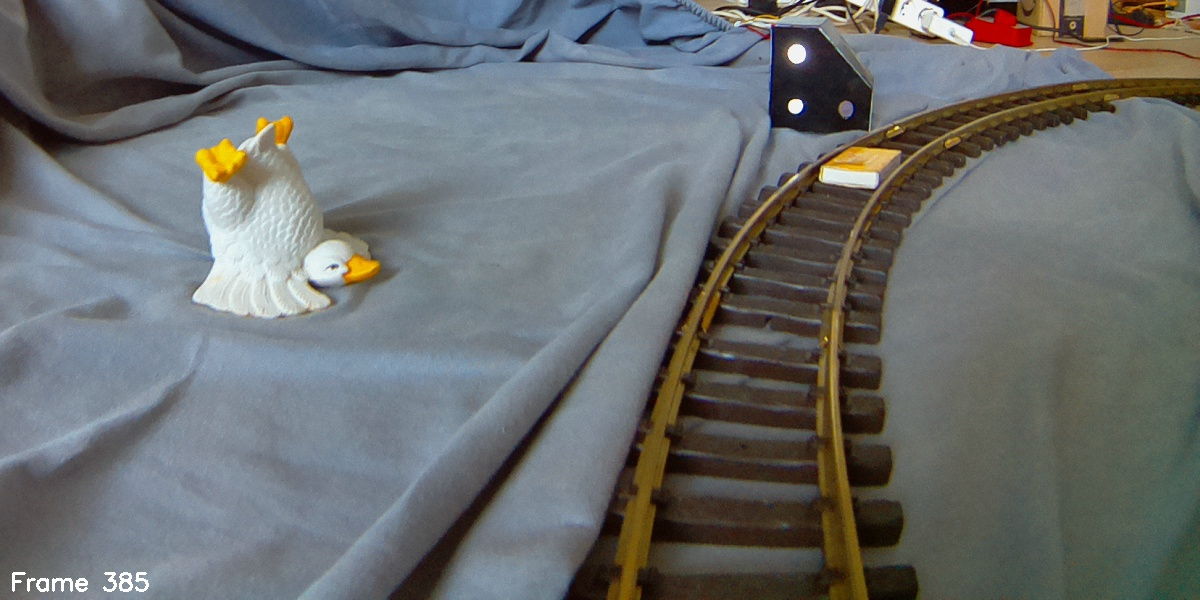Ente: (189, 114, 382, 322)
Fahrt: (771, 14, 872, 133)
